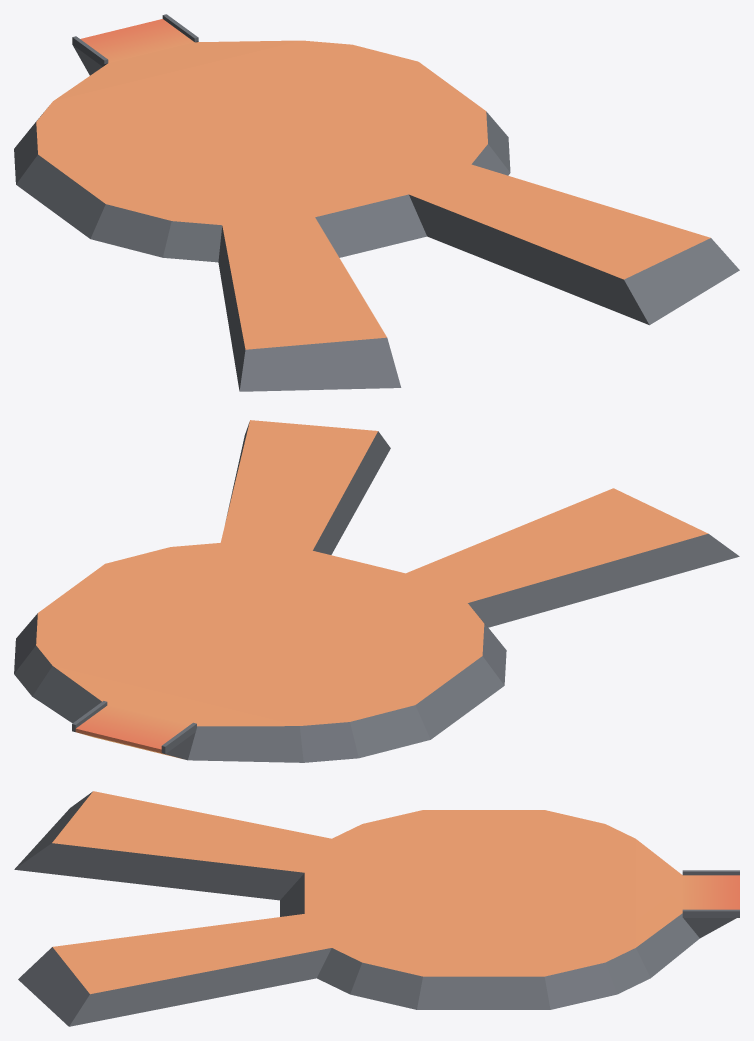
Rendered from levelend2.fbx.
3 views of the same model, one above another, from view 1: azimuth 30°, elevation 25°; view 2: azimuth 150°, elevation 25°; view 3: azimuth 270°, elevation 25° (orthographic). The views are drawn at different scales.
Parts seen in each view (by area): view 1: road.002; view 2: road.002; view 3: road.002.
Part boxes in pixels (x1,y1,x2,y2): road.002: (14, 14, 739, 391); road.002: (14, 420, 739, 762); road.002: (14, 791, 739, 1026).
Size of the model in its own units: 3402 by 236 by 4768.
